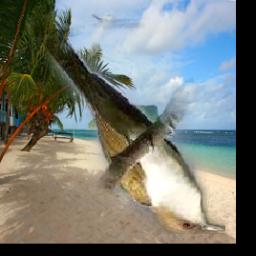Cuckoo: (27, 15, 225, 235)
